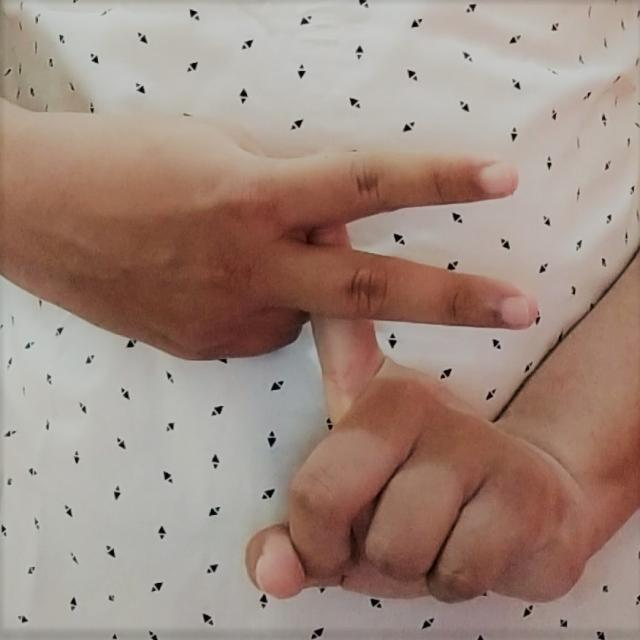F: (25, 87, 613, 609)
